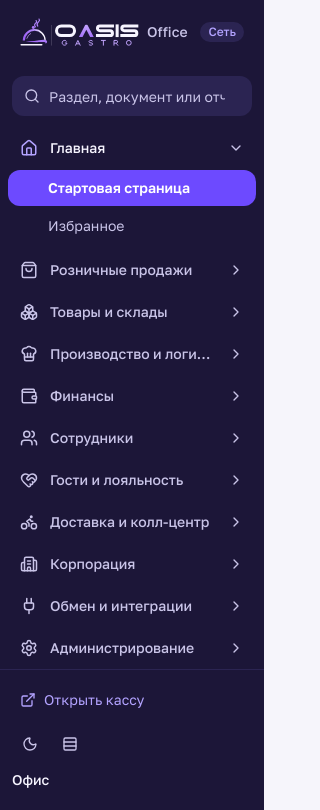
Test case: office sidebar groups open and close (fix-office-sidebar-collapse) › [fix-office-sidebar-collapse] open a closed group
What coordinates should you click on to do the following:
click the button "Финансы"
I would click on:
 (132, 396)
Its box is x1=8 y1=376 x2=256 y2=416.
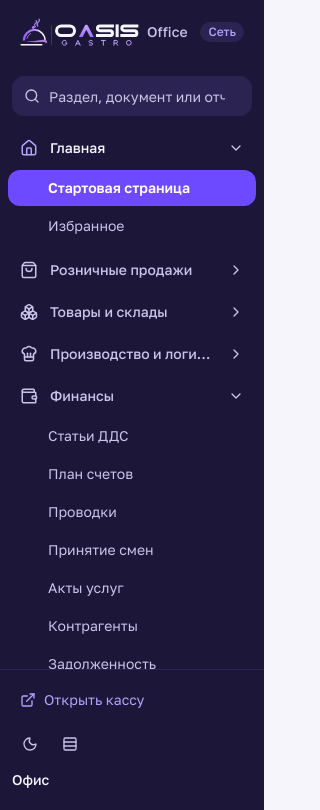
Expected: the button "Финансы" is expanded, x1=8 y1=376 x2=256 y2=416
Expected: the link "Проводки" is shown, x1=48 y1=503 x2=117 y2=520
